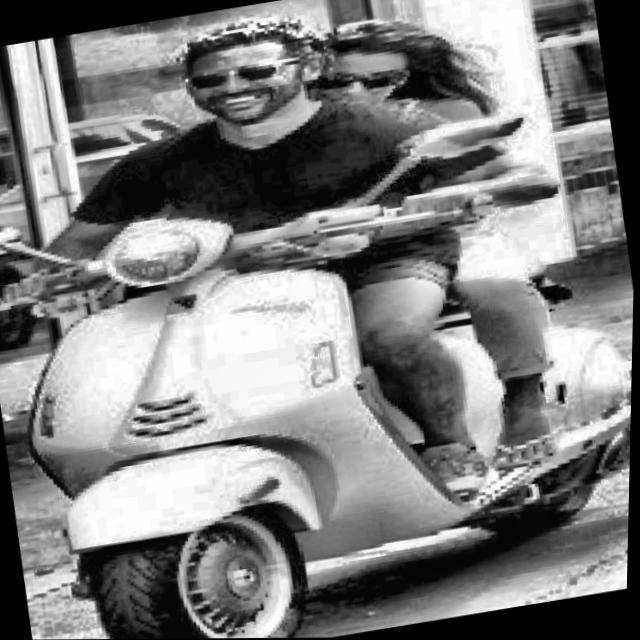motorcycle: (0, 80, 639, 640)
